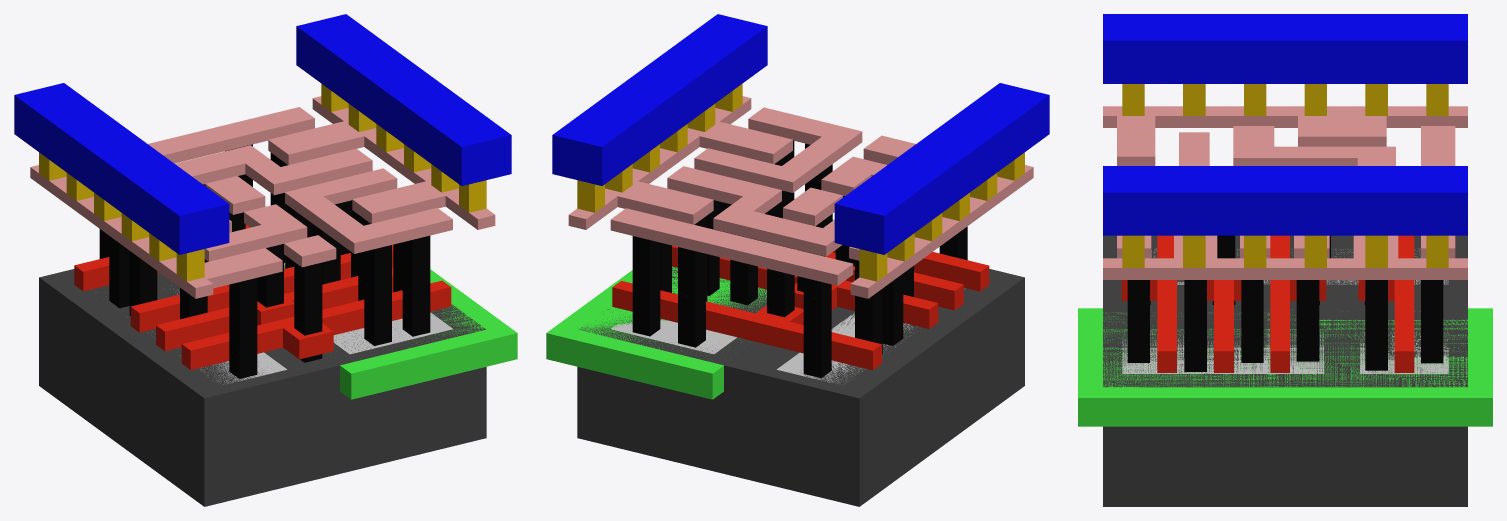
The model's file is sky130_fd_sc_hd__a21o_1.obj.
3 renders of one model, left to right at view 1: azimuth 30°, elevation 25°; view 2: azimuth 150°, elevation 25°; view 3: azimuth 270°, elevation 25°, orthographic. The views are drawn at different scales.
Parts seen in each view (by area): view 1: subs, li, metal1, licon, poly, nwell, mcon, tap, diff; view 2: subs, metal1, li, licon, poly, nwell, mcon, tap, diff; view 3: metal1, subs, nwell, li, licon, poly, mcon, tap.
Part boxes in pixels (box(x1,y1,x2,y2)): subs: box(39, 263, 486, 506); li: box(30, 96, 495, 298); metal1: box(14, 14, 511, 254); licon: box(99, 144, 430, 378); poly: box(74, 224, 451, 369); nwell: box(284, 266, 517, 399); mcon: box(39, 83, 486, 281); tap: box(284, 263, 453, 354); diff: box(152, 285, 286, 384); subs: box(577, 266, 1024, 506); metal1: box(552, 14, 1049, 254); li: box(568, 96, 1033, 298); licon: box(632, 140, 967, 378); poly: box(612, 225, 989, 370); nwell: box(546, 219, 833, 399); mcon: box(577, 83, 1024, 281); tap: box(610, 319, 736, 354); diff: box(777, 312, 917, 383); metal1: box(1103, 14, 1467, 235); subs: box(1103, 235, 1467, 506); nwell: box(1078, 308, 1492, 426); li: box(1103, 106, 1467, 279); licon: box(1127, 235, 1443, 371); poly: box(1121, 235, 1414, 372); mcon: box(1122, 84, 1448, 267); tap: box(1122, 329, 1448, 373).
Size of the model in its own units: 3.2 by 2.74 by 3.14.
